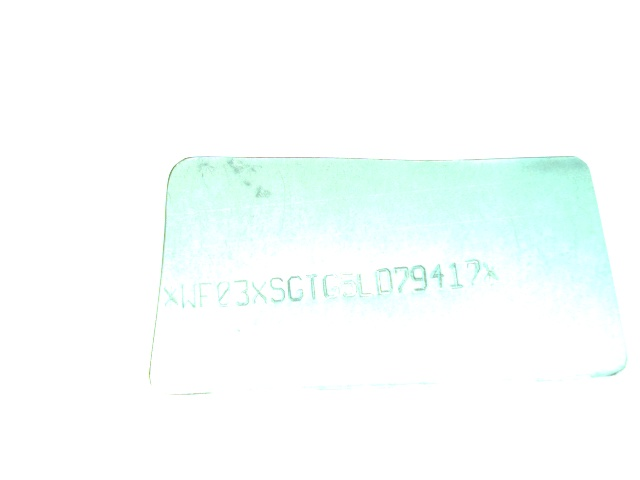0: (215, 280, 232, 307)
1: (448, 262, 465, 290)
3: (233, 278, 251, 306)
4: (430, 263, 448, 294)
5: (340, 271, 358, 300)
7: (394, 264, 410, 297), (465, 259, 483, 286)
9: (410, 263, 429, 294)
d: (373, 266, 394, 297)
f: (198, 281, 213, 309)
g: (285, 274, 307, 304), (321, 272, 341, 301)
l: (357, 270, 374, 299)
s: (268, 276, 287, 304)
t: (306, 273, 321, 301)
w: (179, 283, 199, 309)
x: (250, 279, 269, 307)
